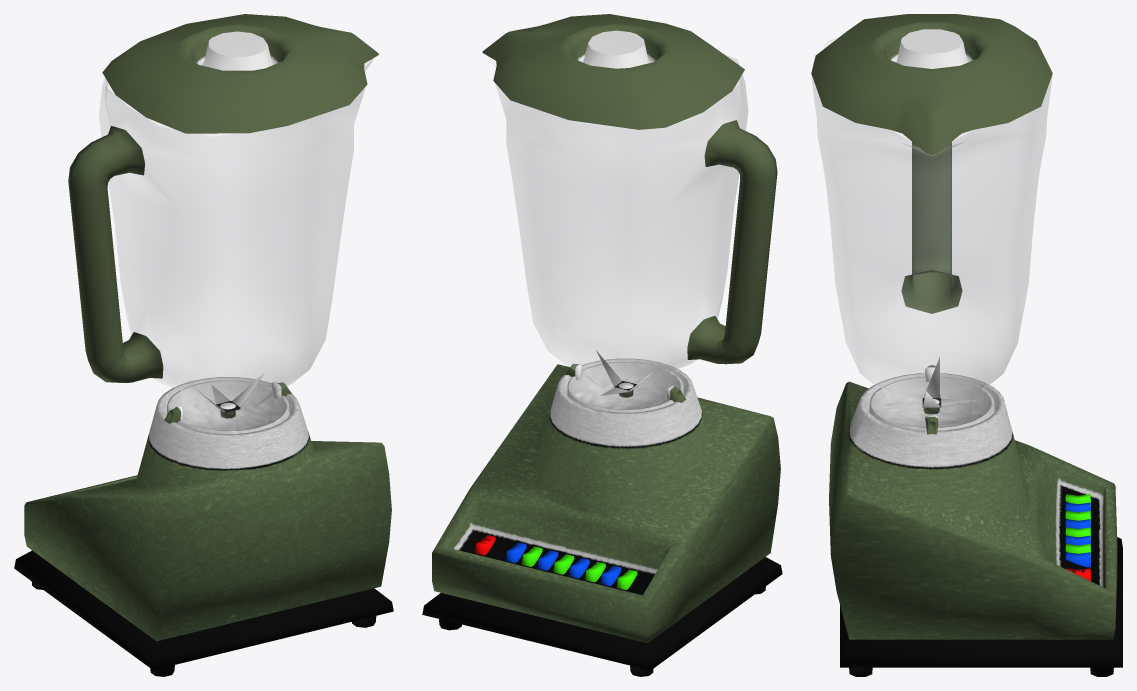
Rendered from blender.glb.
The picture shows the model from 3 angles, left to right: view 1: azimuth 30°, elevation 25°; view 2: azimuth 150°, elevation 25°; view 3: azimuth 270°, elevation 25°; orthographic projection. The views are drawn at different scales.
Parts seen in each view (by area): view 1: blender, blender.002, blender.001, blender.008; view 2: blender, blender.002, blender.001, blender.008; view 3: blender, blender.002, blender.001, blender.008.
Part boxes in pixels (x1,y1,x2,y2): blender: (14,377,393,676); blender.002: (68,59,372,430); blender.001: (102,14,378,133); blender.008: (192,372,264,418); blender: (422,358,782,676); blender.002: (488,55,777,408); blender.001: (482,14,744,129); blender.008: (596,350,653,397); blender: (829,365,1122,676); blender.002: (811,38,1052,424); blender.001: (811,14,1052,154); blender.008: (922,357,976,414).
Size of the model in its own units: 0.575 by 1.03 by 0.4953.
Materials: 2 (1 with a texture image).
